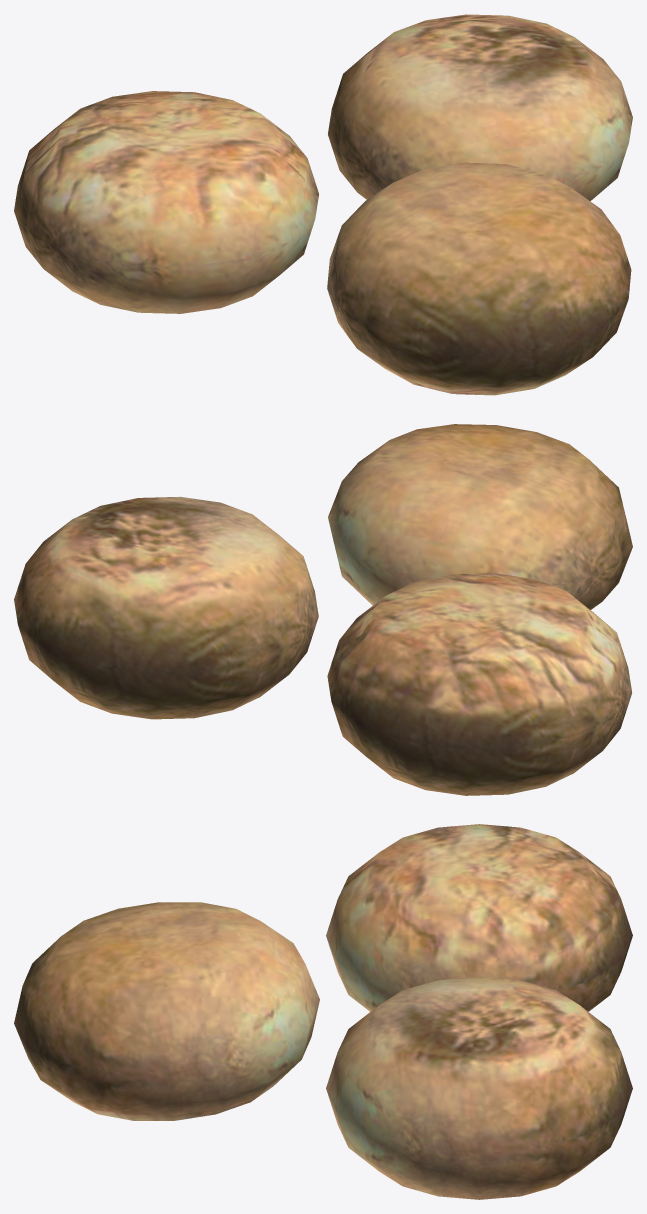
Rendered from tiannaxing.FBX.
3 views of the same model, one above another, from view 1: azimuth 30°, elevation 25°; view 2: azimuth 150°, elevation 25°; view 3: azimuth 270°, elevation 25° (orthographic).
Visible parts, largest first — view 1: Sphere003, Sphere001, Sphere002; view 2: Sphere002, Sphere001, Sphere003; view 3: Sphere002, Sphere003, Sphere001.
Boxes of the visible parts, box(x1,y1,x2,y2) form: Sphere003: box(327, 162, 631, 395); Sphere001: box(14, 91, 318, 313); Sphere002: box(328, 14, 632, 200); Sphere002: box(14, 496, 318, 719); Sphere001: box(327, 573, 631, 795); Sphere003: box(328, 424, 632, 609); Sphere002: box(326, 977, 632, 1199); Sphere003: box(14, 902, 319, 1120); Sphere001: box(326, 824, 632, 1011).
Bounding box in the file's own units: 44.83 × 11.65 × 41.52.
Materials: 1 (1 with a texture image).
